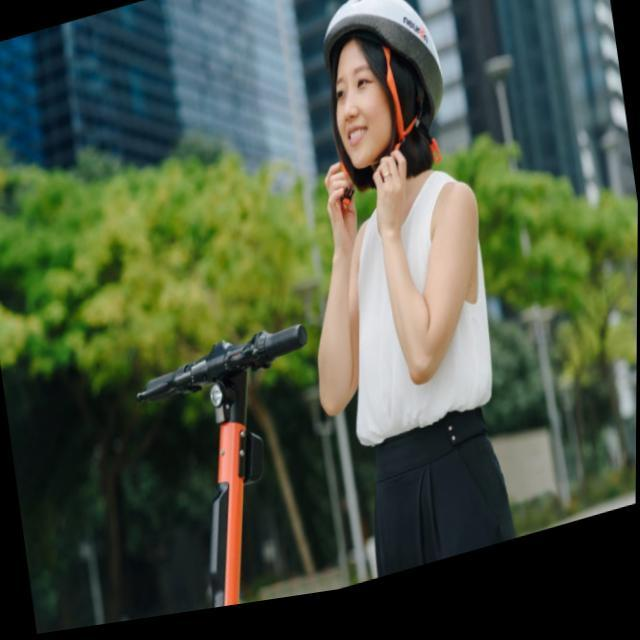Helmet: (318, 0, 448, 192)
